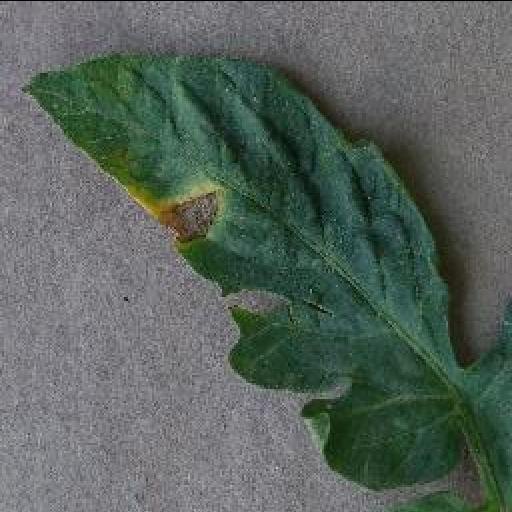disease_tomato: (25, 48, 459, 489)
